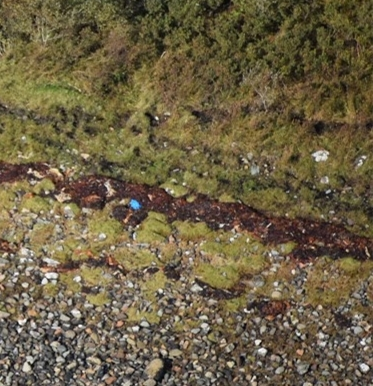white_in_green: (111, 183, 159, 224)
